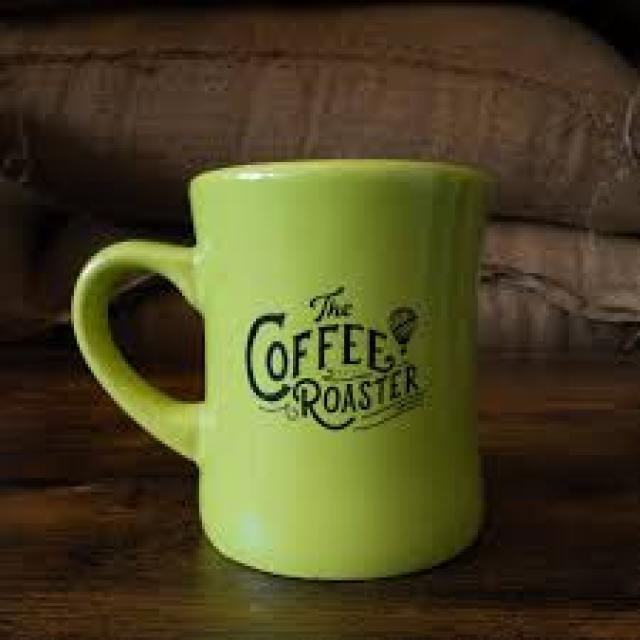taza: (70, 158, 493, 582)
